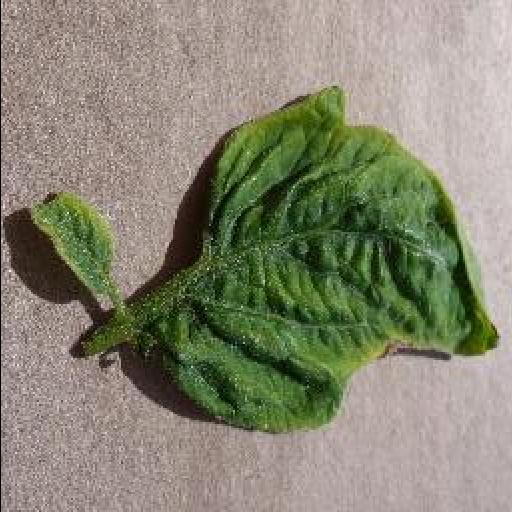disease_tomato: (154, 86, 498, 436)
